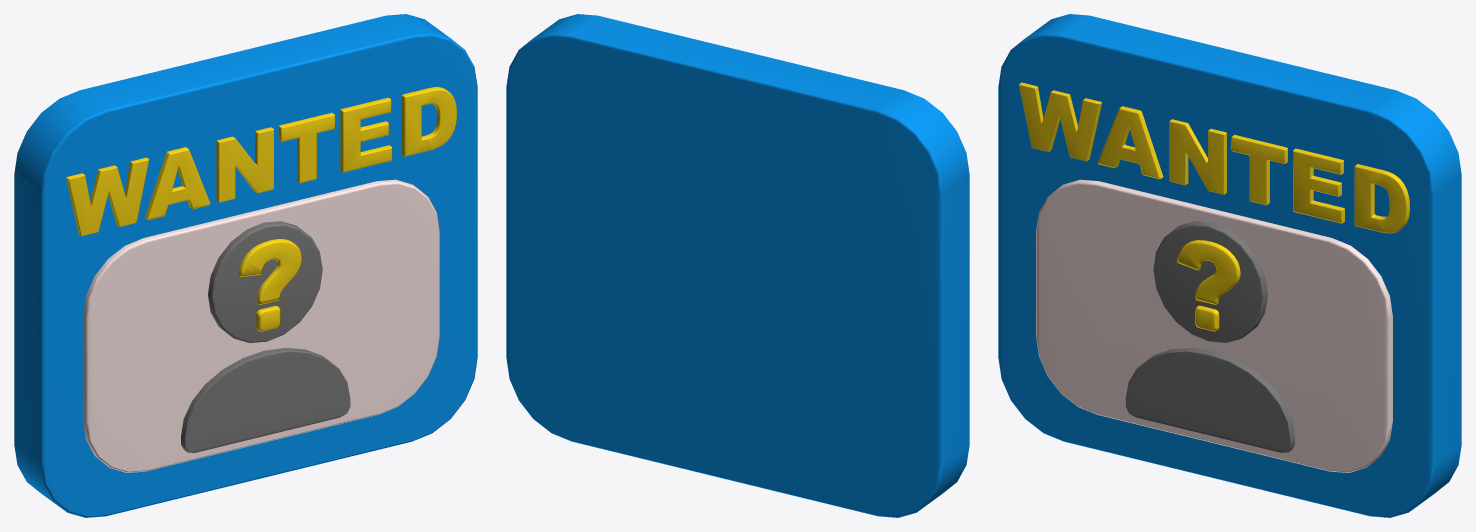
File: Public_16_Poster_Wanted_2.glb
3 renders of one model, left to right at view 1: azimuth 30°, elevation 25°; view 2: azimuth 150°, elevation 25°; view 3: azimuth 330°, elevation 25°, orthographic.
Visible parts, largest first — view 1: Public_16_Poster_Wanted_2; view 2: Public_16_Poster_Wanted_2; view 3: Public_16_Poster_Wanted_2.
Boxes of the visible parts, x1,y1,x2,y2 form: Public_16_Poster_Wanted_2: (14,14,477,517); Public_16_Poster_Wanted_2: (506,14,969,517); Public_16_Poster_Wanted_2: (998,14,1461,517).
Bounding box in the file's own units: 1.02 × 0.9071 × 0.1574.
Materials: 1 (1 with a texture image).
